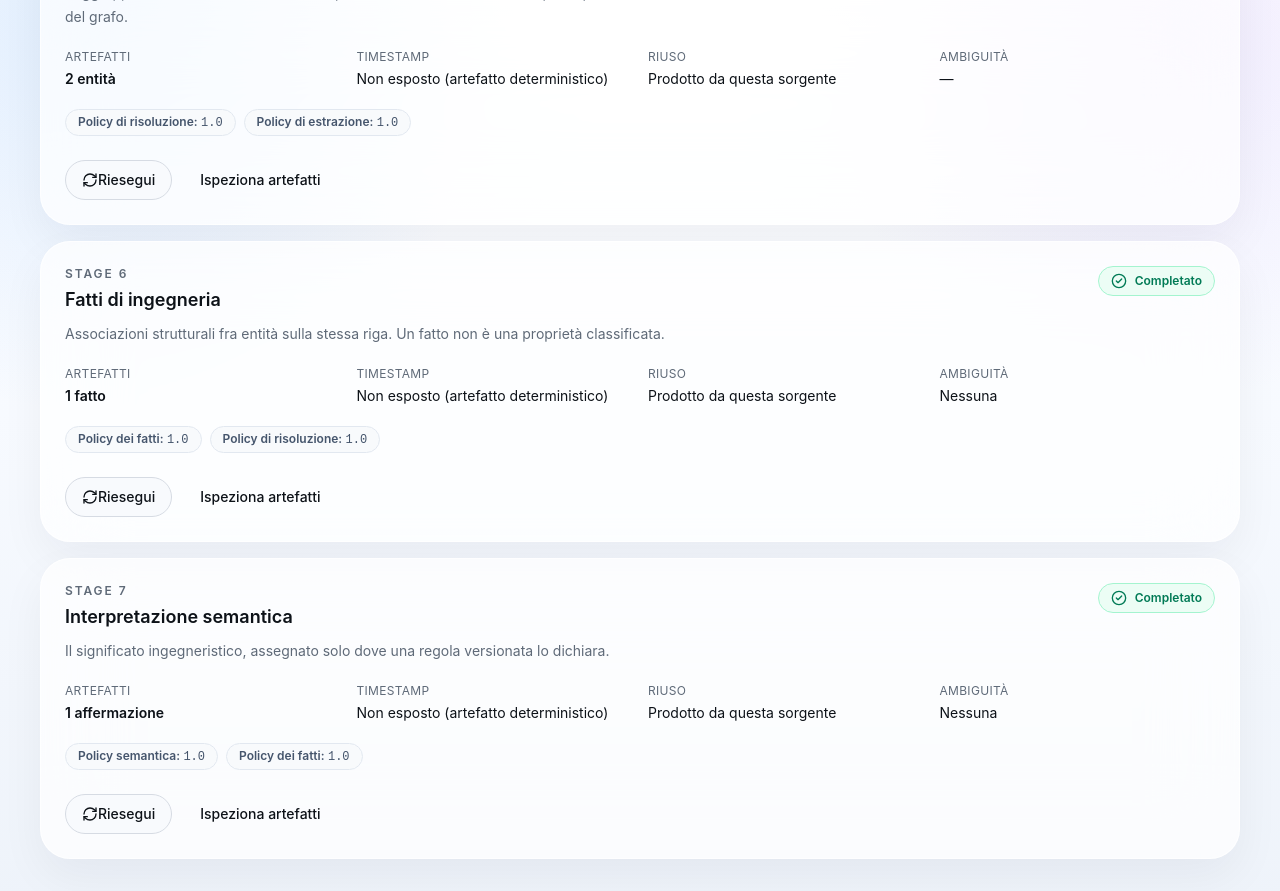
Scenario: inspecting artefacts › resolves fact entity keys to their labels
(page scrolled)
Expected: the heading "Fatti di ingegneria" is shown, [65, 289, 221, 310]
Click the button "Ispeziona artefatti" below "1 fatto" at coordinates (260, 497), box [184, 477, 337, 517]
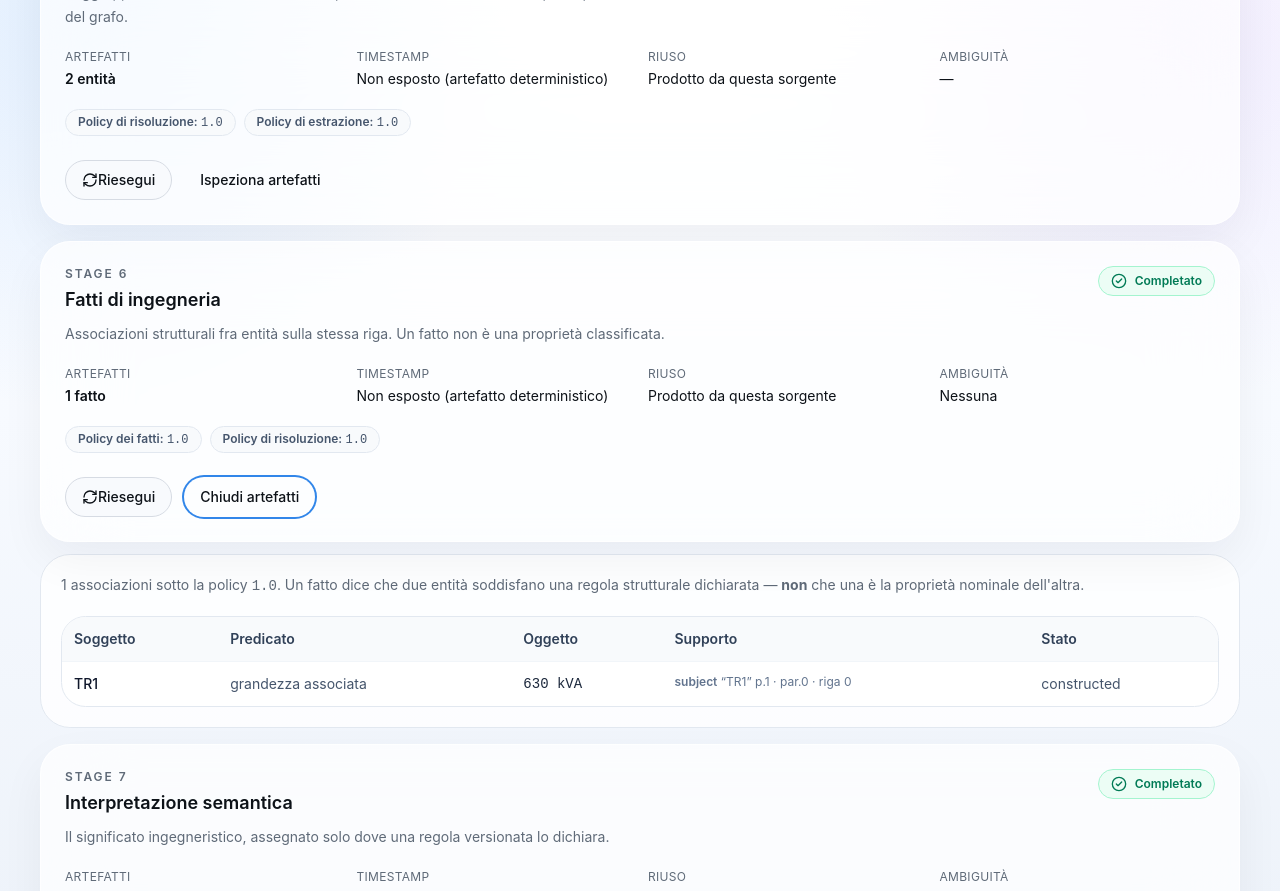
Expected: the text "grandezza associata" is shown, [218, 662, 511, 706]
Expected: the text "TR1" is shown, [62, 662, 218, 706]
Expected: the text "630 kVA" is shown, [511, 662, 662, 706]
